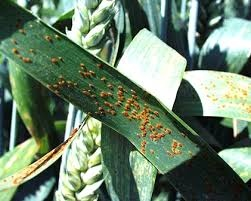Leaf Rust: (60, 60, 177, 160)
